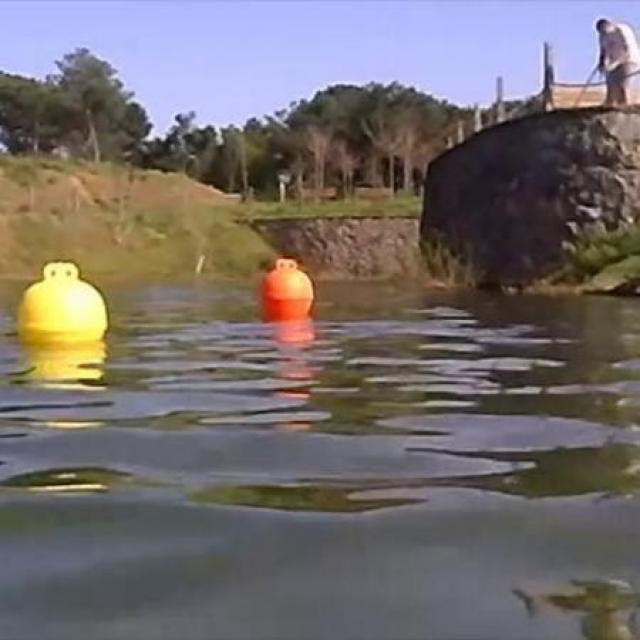buoy: (16, 262, 110, 346), (260, 257, 314, 319)
